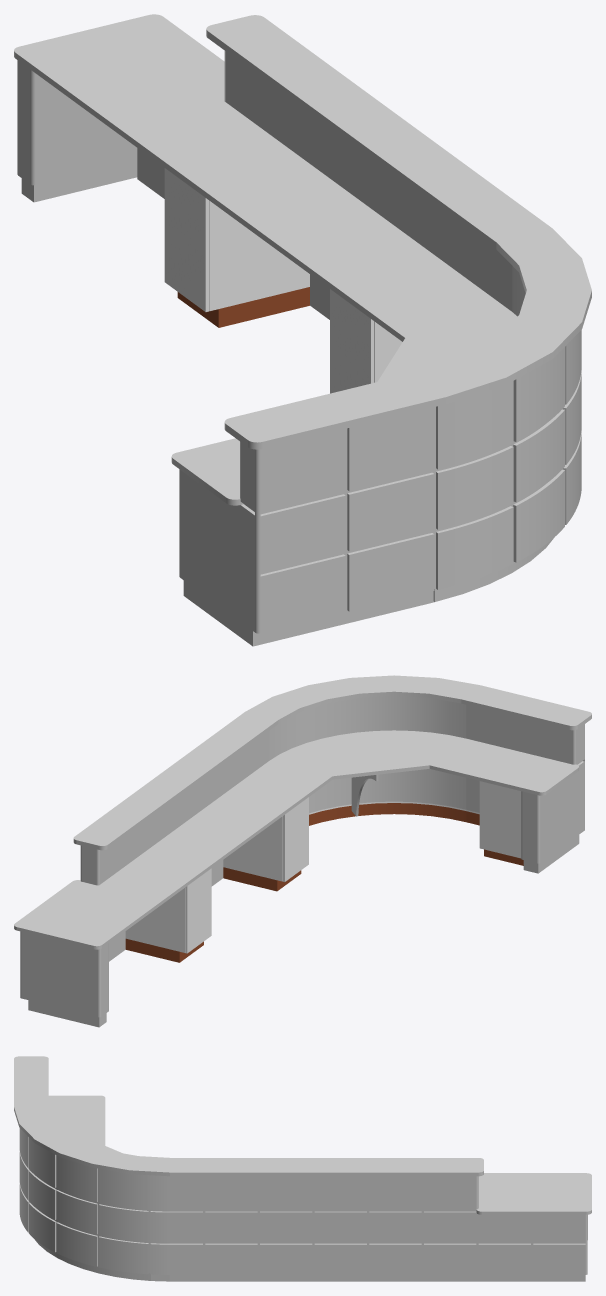
File: reception.fbx
3 renders of one model, top to bottom at view 1: azimuth 30°, elevation 25°; view 2: azimuth 150°, elevation 25°; view 3: azimuth 270°, elevation 25°, orthographic. The views are drawn at different scales.
Visible parts, largest first — view 1: Group_119, Group_125, Group_124, Group_007, Group_002, Group_005, Group_090, Group_077, Group_014, Group_013, Group_016, Group_015 (+23 smaller); view 2: Group_119, Group_125, Group_115, Group_054, Group_124, Group_004, Group_007, Group_006, Group_126, Group_118, Group_082, Group_001 (+10 smaller); view 3: Group_119, Group_124, Group_011, Group_126, Group_076, Group_033, Group_048, Group_045, Group_041, Group_038, Group_035, Group_028 (+30 smaller).
Part boxes in pixels (left/top/right/bottom): Group_119: left=206, top=15, right=591, bottom=449; Group_125: left=118, top=102, right=511, bottom=341; Group_124: left=14, top=14, right=224, bottom=133; Group_007: left=164, top=168, right=309, bottom=327; Group_002: left=180, top=470, right=254, bottom=631; Group_005: left=35, top=73, right=137, bottom=184; Group_090: left=349, top=142, right=472, bottom=282; Group_077: left=225, top=51, right=348, bottom=191; Group_014: left=347, top=407, right=434, bottom=490; Group_013: left=260, top=428, right=345, bottom=512; Group_016: left=347, top=533, right=434, bottom=611; Group_015: left=347, top=472, right=434, bottom=551; Group_119: left=73, top=675, right=591, bottom=850; Group_125: left=100, top=761, right=332, bottom=903; Group_115: left=269, top=696, right=466, bottom=760; Group_054: left=269, top=730, right=465, bottom=779; Group_124: left=14, top=880, right=162, bottom=949; Group_004: left=21, top=932, right=97, bottom=1016; Group_007: left=125, top=868, right=211, bottom=962; Group_006: left=223, top=797, right=308, bottom=891; Group_126: left=429, top=738, right=578, bottom=795; Group_118: left=309, top=769, right=466, bottom=813; Group_082: left=466, top=705, right=572, bottom=764; Group_001: left=479, top=781, right=523, bottom=865; Group_119: left=14, top=1056, right=483, bottom=1176; Group_124: left=476, top=1173, right=591, bottom=1214; Group_011: left=169, top=1176, right=476, bottom=1273; Group_126: left=48, top=1095, right=105, bottom=1145; Group_076: left=169, top=1274, right=476, bottom=1281; Group_033: left=150, top=1175, right=202, bottom=1210; Group_048: left=424, top=1176, right=476, bottom=1210; Group_045: left=369, top=1176, right=421, bottom=1210; Group_041: left=314, top=1176, right=366, bottom=1210; Group_038: left=260, top=1176, right=312, bottom=1210; Group_035: left=205, top=1176, right=257, bottom=1210; Group_028: left=98, top=1168, right=148, bottom=1209.
Size of the model in its own units: 2507 by 1156 by 5272.
